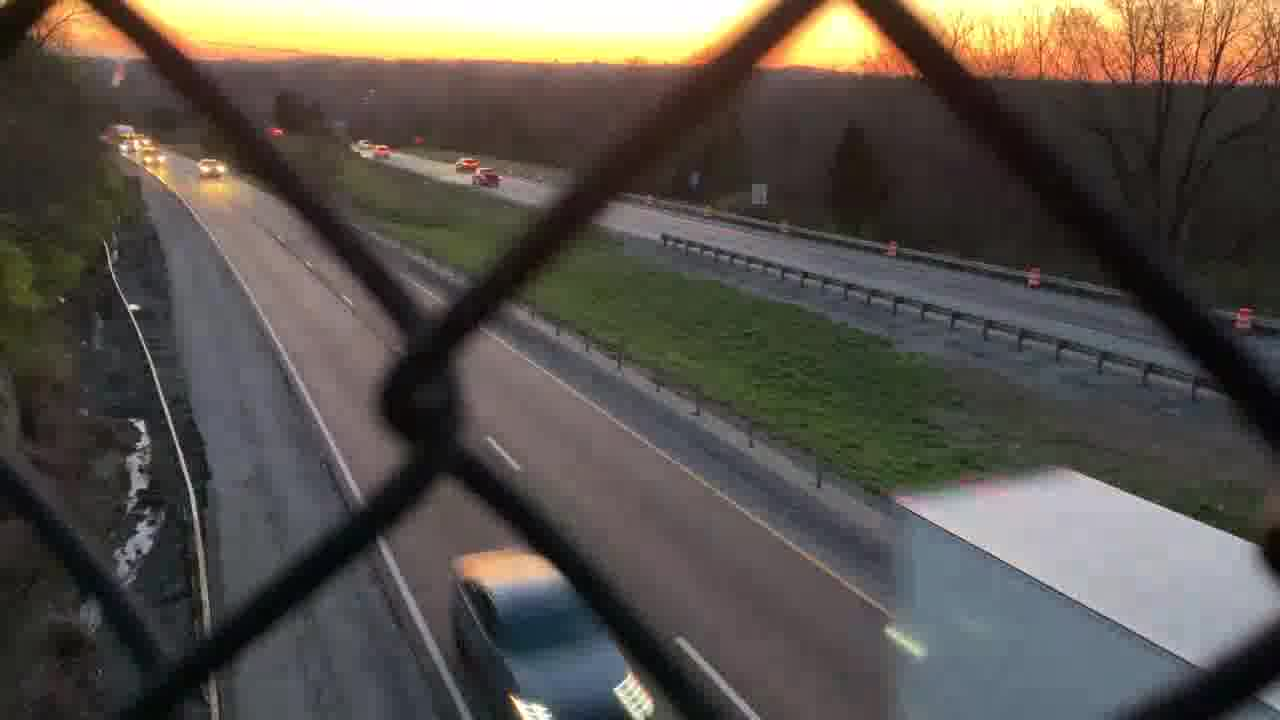smallCar: (447, 548, 651, 720)
